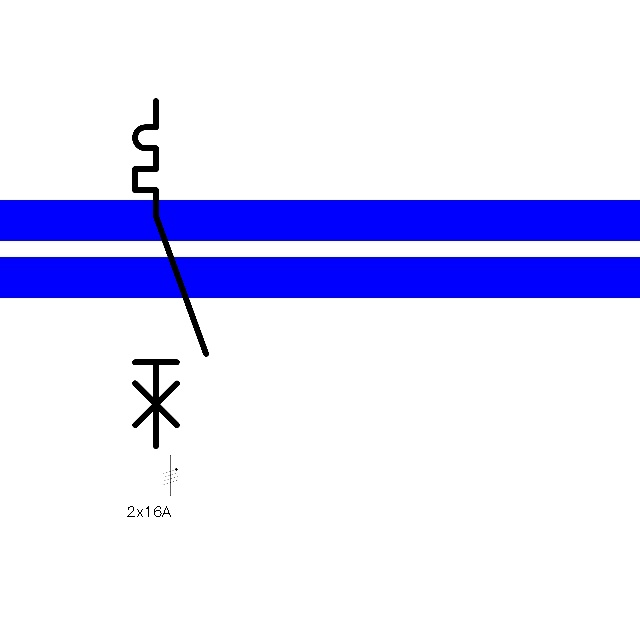interruptor_termomagnetico: (126, 92, 215, 455)
